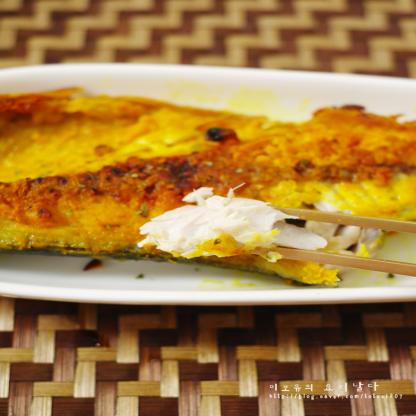Peixe: (0, 84, 416, 272)
